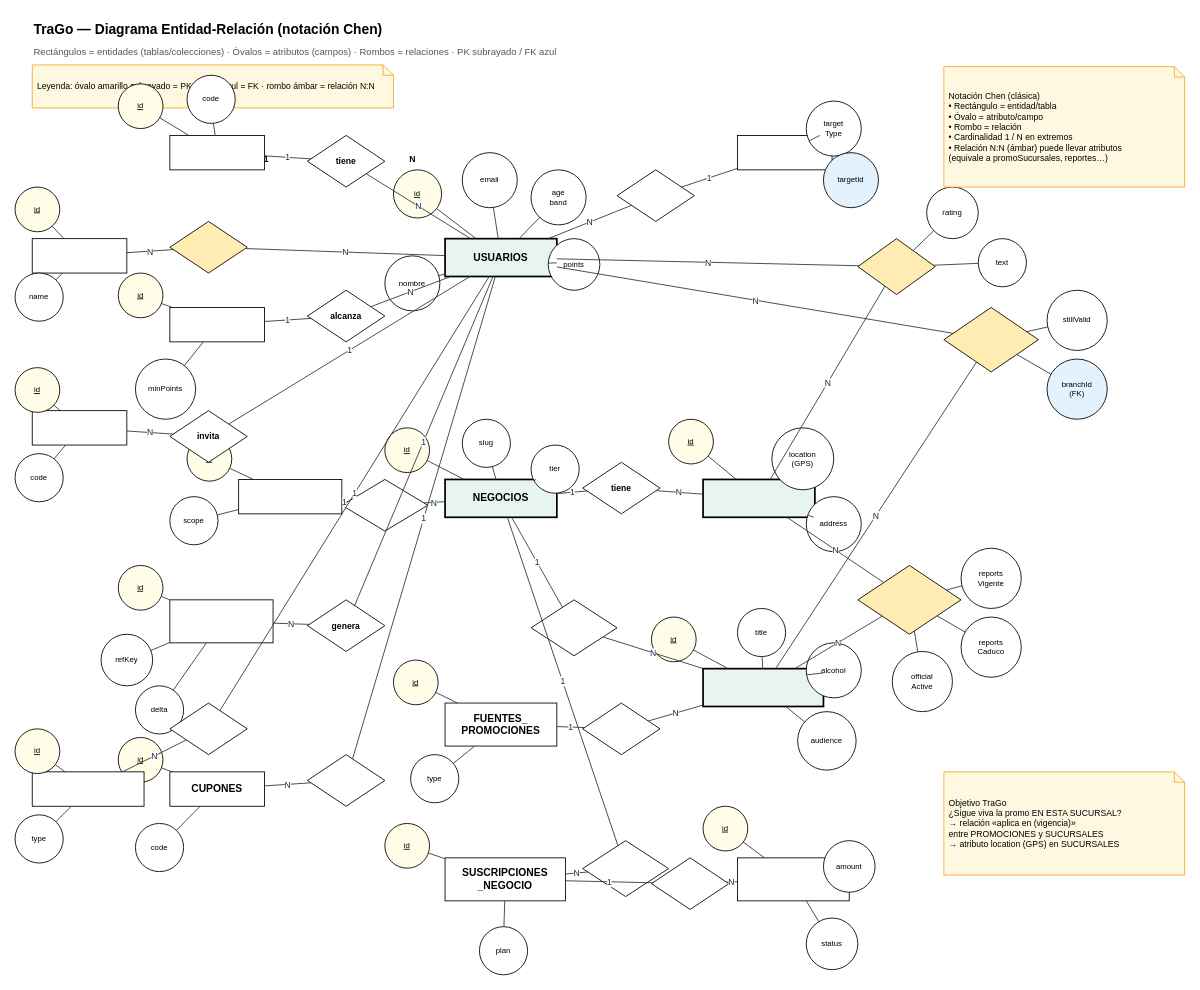
This 1200x990 diagram has some shape labels left out. The box of each missing label's shape, as (x1, y1, x2, y2) in pixels:
aplica en (vigencia): (857, 565, 961, 634)
canjea: (307, 754, 385, 806)
CATEGORIAS: (238, 479, 342, 514)
clasifica: (341, 479, 428, 531)
contrata: (582, 840, 669, 897)
DETALLES_ PUNTOS: (169, 599, 273, 643)
FAVORITOS: (737, 135, 832, 170)
gana: (169, 221, 247, 273)
guarda: (616, 169, 694, 221)
INSIGNIAS: (31, 238, 127, 273)
NIVELES: (169, 307, 264, 342)
NOTIFICACIONES: (31, 771, 144, 806)
opina: (857, 238, 935, 295)
origina: (582, 702, 660, 755)
paga: (651, 857, 729, 909)
PAGOS_ SUSCRIPCION: (737, 857, 849, 901)
PROMOCIONES: (702, 667, 824, 707)
publica: (530, 599, 617, 656)
recibe: (169, 702, 247, 755)
REFERIDOS: (31, 410, 127, 445)
reporta vigencia: (943, 307, 1038, 372)
ROLES: (169, 135, 264, 170)
SUCURSALES: (702, 478, 815, 518)
